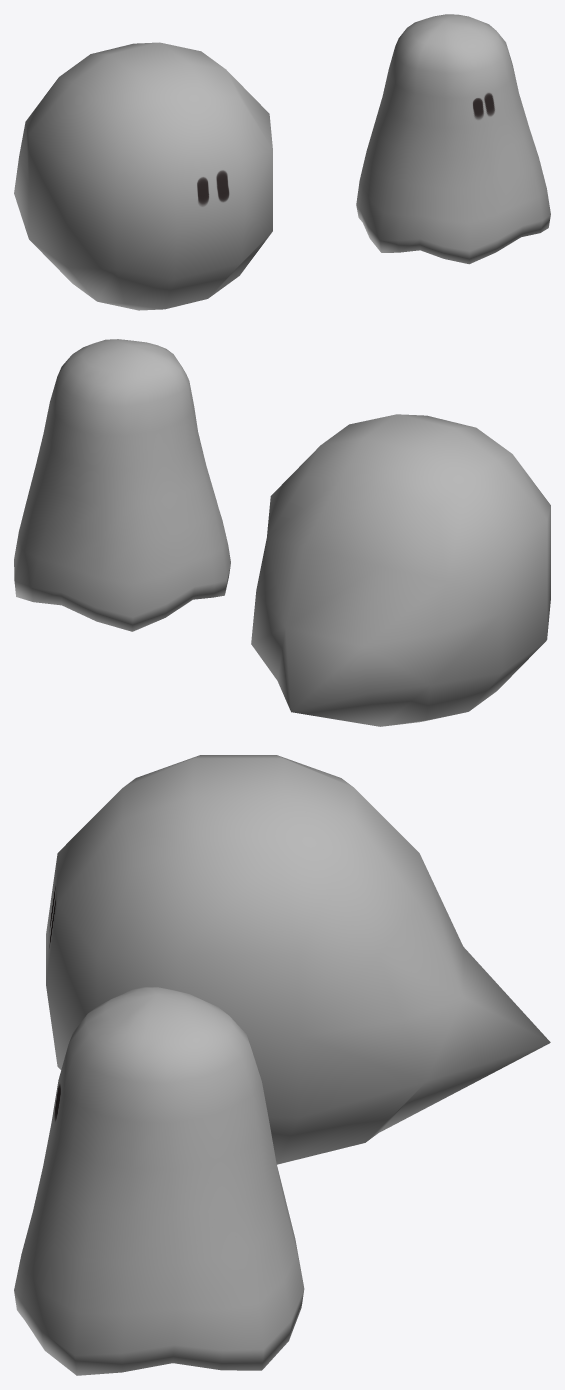
The model's file is ghost.FBX.
The picture shows the model from 3 angles, top to bottom: view 1: azimuth 30°, elevation 25°; view 2: azimuth 150°, elevation 25°; view 3: azimuth 270°, elevation 25°; orthographic projection. The views are drawn at different scales.
Parts seen in each view (by area): view 1: Box001, Plane008; view 2: Box001, Plane008; view 3: Box001, Plane008.
Boxes of the visible parts, bbox=[...] form: Box001: bbox=[14, 42, 272, 310]; Plane008: bbox=[356, 14, 550, 264]; Box001: bbox=[251, 414, 550, 726]; Plane008: bbox=[14, 339, 230, 631]; Box001: bbox=[46, 755, 550, 1164]; Plane008: bbox=[14, 987, 304, 1375].
Bounding box in the file's own units: 43.34 × 21.25 × 28.39.
